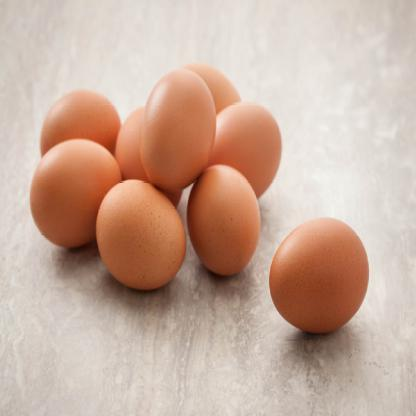egg: (92, 162, 187, 303), (276, 211, 372, 347), (13, 132, 128, 243), (171, 152, 262, 272), (138, 56, 214, 189), (102, 83, 184, 206), (34, 73, 124, 175), (200, 90, 274, 194)
